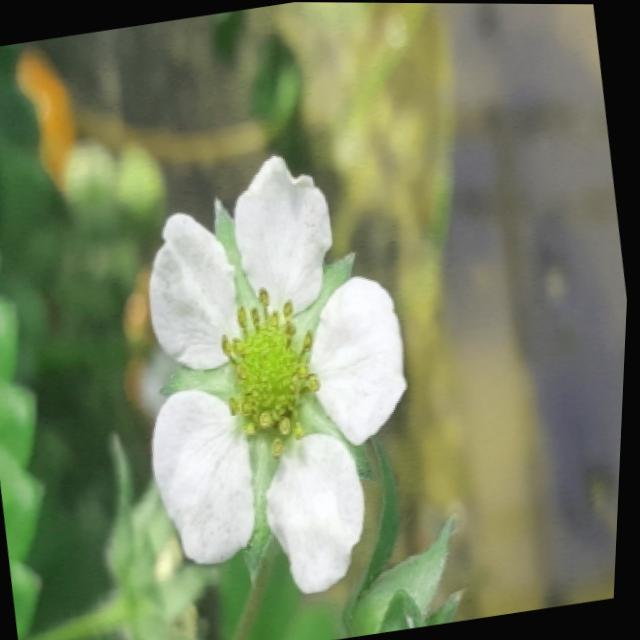Blossom Blight: (220, 282, 331, 462)
